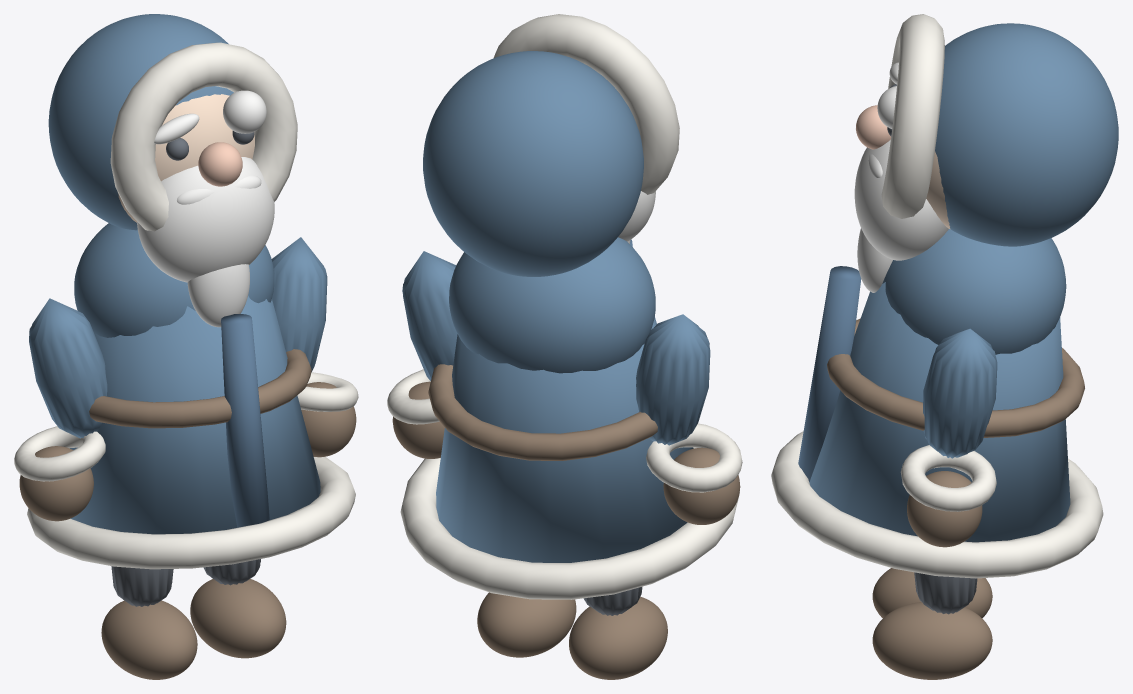
Rendered from player.glb.
3 views of the same model, side by side, from view 1: azimuth 30°, elevation 25°; view 2: azimuth 150°, elevation 25°; view 3: azimuth 270°, elevation 25° (orthographic). The views are drawn at different scales.
Visible parts, largest first — view 1: coat, hood, furring, hem, beard, chest, arm-1, front, boot-1, boot1, belt, arm1 (+12 smaller); view 2: hood, coat, chest, hem, furring, arm-1, belt, boot-1, boot1, arm1, cuff-1, mitten-1 (+4 smaller); view 3: hood, coat, chest, hem, furring, arm1, boot1, belt, front, beard, cuff1, mitten1 (+6 smaller).
Boxes of the visible parts, x1,y1,x2,y2 form: coat: (70, 295, 320, 534); hood: (48, 14, 233, 230); furring: (110, 42, 297, 231); hem: (27, 456, 355, 569); beard: (137, 157, 274, 282); chest: (74, 223, 274, 337); arm-1: (29, 298, 107, 438); front: (221, 314, 269, 527); boot-1: (101, 600, 197, 679); boot1: (190, 579, 286, 658); belt: (89, 349, 311, 428); arm1: (271, 237, 327, 372); hood: (423, 51, 643, 276); coat: (436, 316, 693, 562); chest: (449, 237, 655, 373); hem: (400, 447, 739, 599); furring: (493, 14, 679, 194); arm-1: (636, 314, 710, 445); belt: (428, 364, 657, 460); boot-1: (569, 596, 667, 679); boot1: (477, 592, 576, 657); arm1: (402, 251, 457, 380); cuff-1: (646, 423, 742, 492); mitten-1: (663, 447, 740, 524); hood: (935, 23, 1118, 246); coat: (809, 282, 1070, 542); chest: (882, 229, 1066, 354); hem: (771, 431, 1103, 578); furring: (881, 14, 944, 218); arm1: (923, 328, 997, 458); boot1: (872, 602, 992, 679); belt: (827, 318, 1084, 437); front: (798, 266, 861, 481); beard: (854, 139, 948, 260); cuff1: (900, 445, 996, 511); mitten1: (907, 471, 982, 547).
Size of the model in its own units: 0.8588 by 1.53 by 0.7675.
